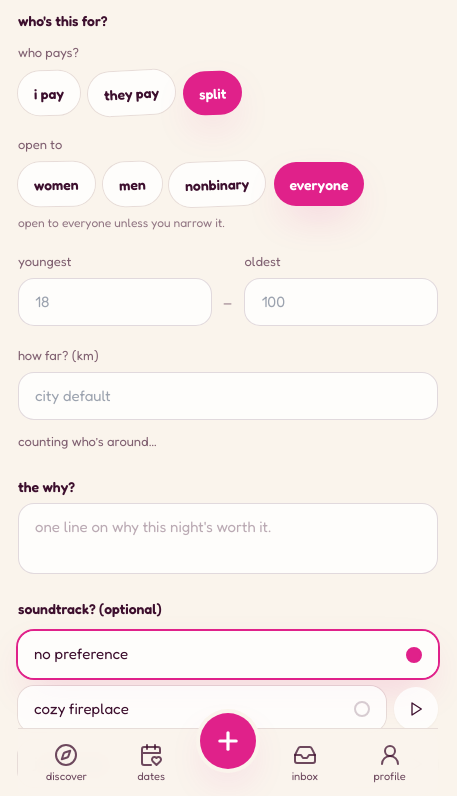
it: PostNightForm reach line (E10 / D-01) › normalizes the open case: everyone is sent as omitted/empty target_genders, not the literal everyone
(page scrolled)
Type "10" into the number field labelled "how far? (km)".
click(228, 396); type("10")  # box x1=18 y1=372 x2=438 y2=420
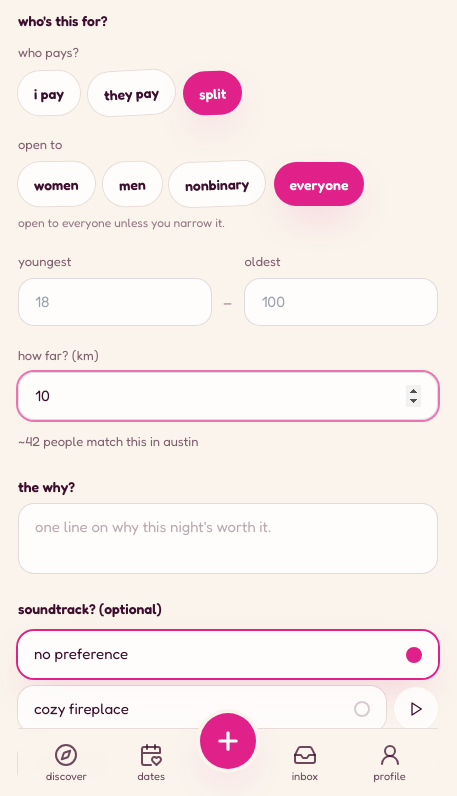
Now the text "~42 people match this in austin" is shown, box x1=18 y1=433 x2=198 y2=449
